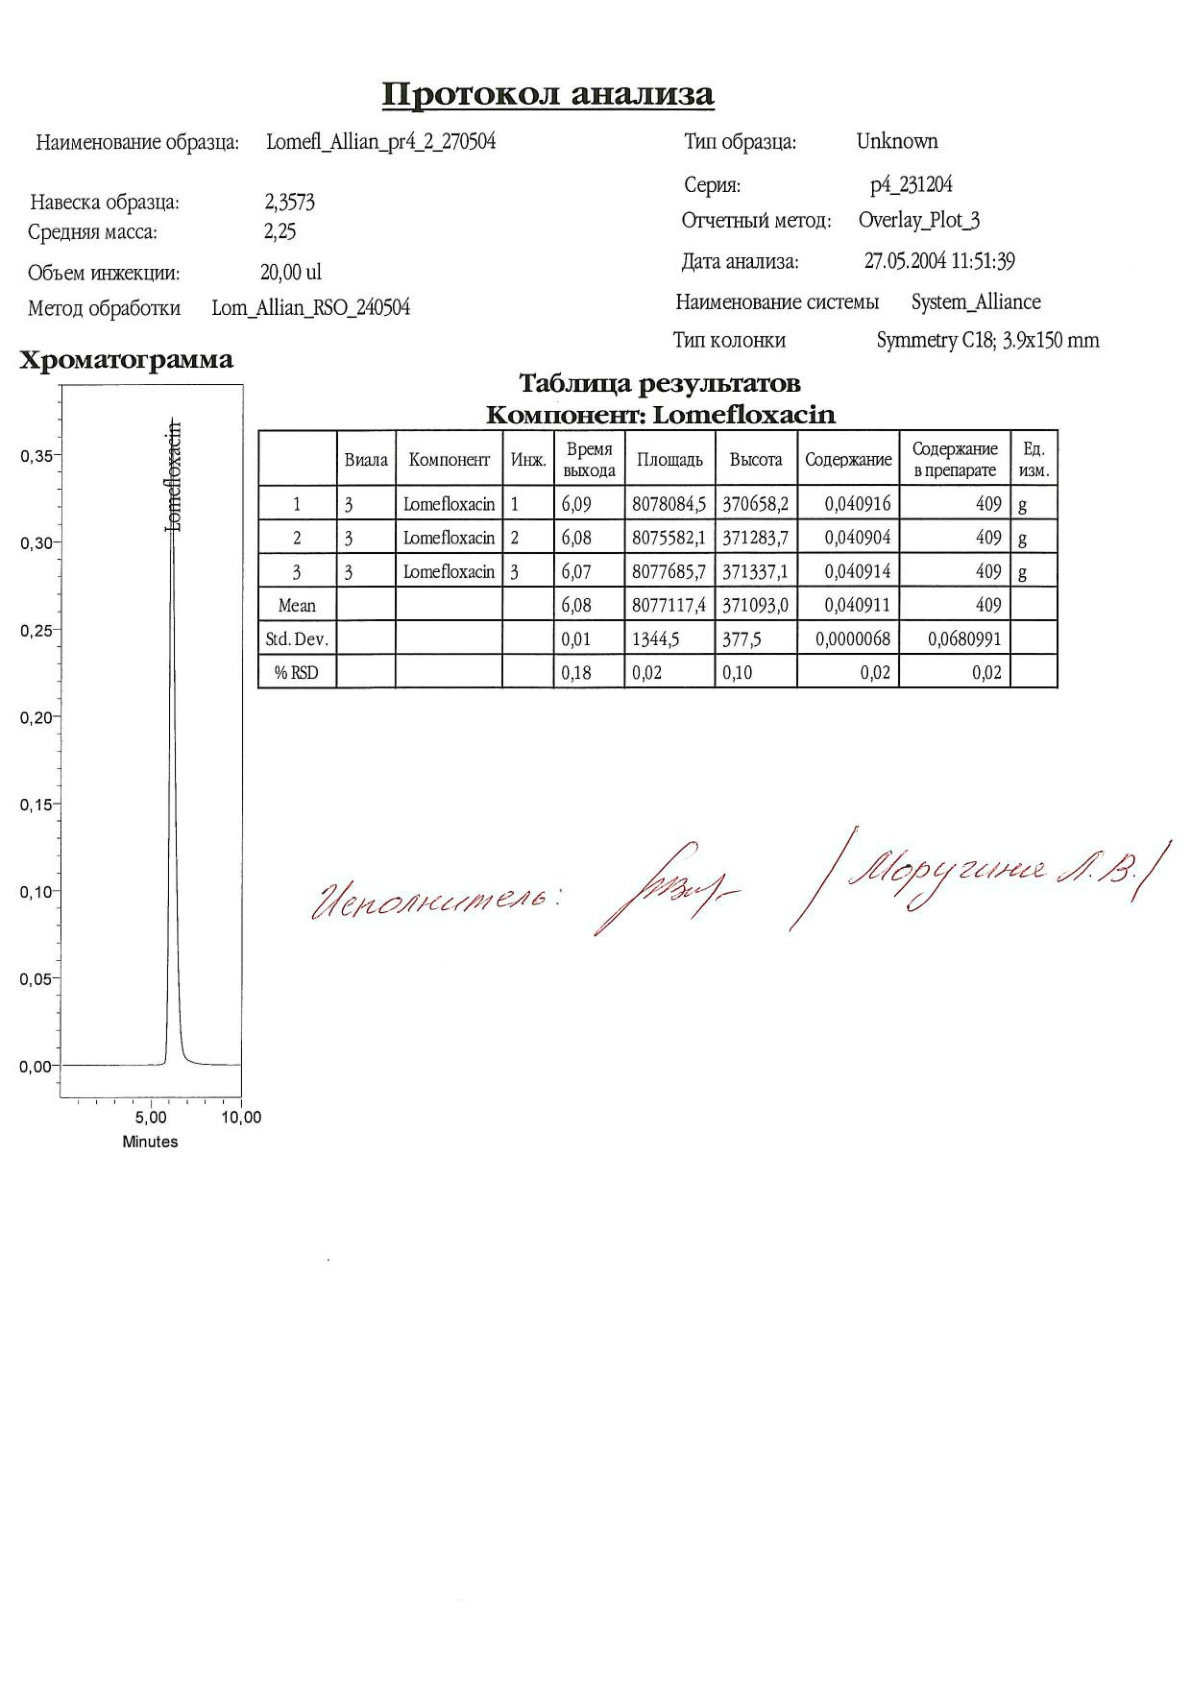full_lined: (255, 428, 1060, 691)
nolines: (25, 126, 1106, 355)
